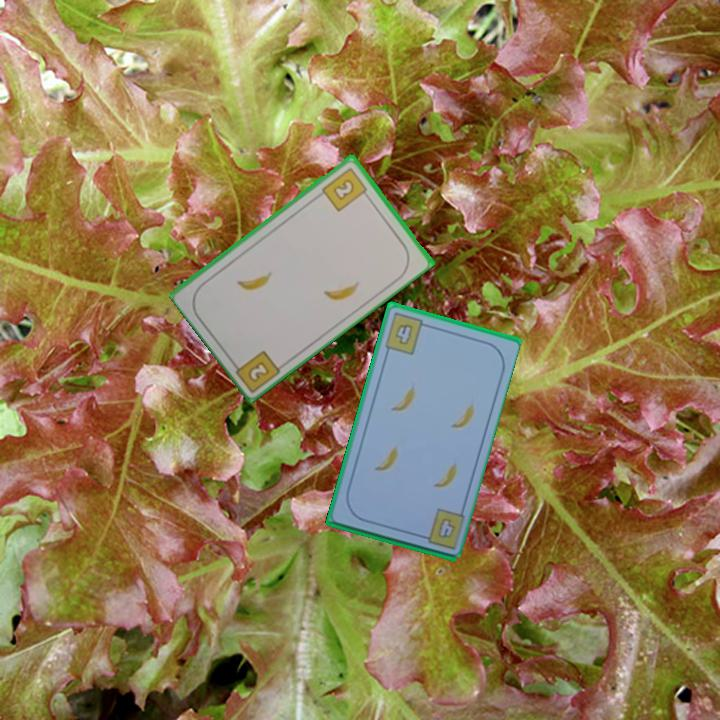2b: (318, 163, 372, 214), (244, 357, 272, 385)
4b: (381, 309, 432, 358), (433, 514, 458, 541)
